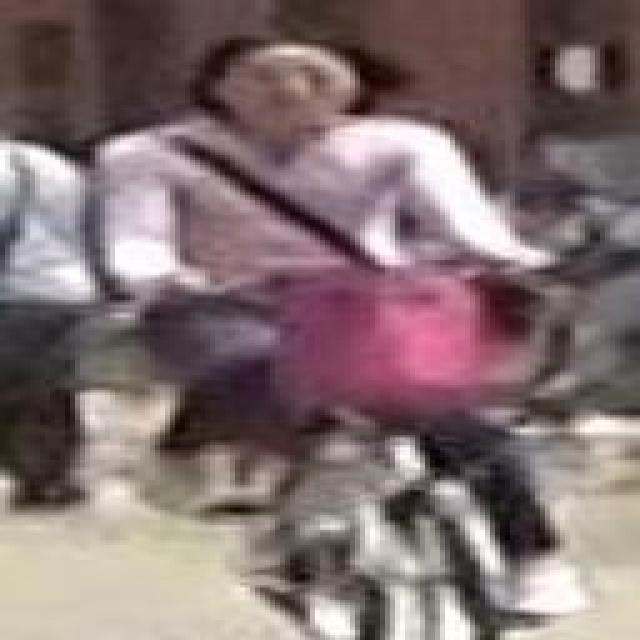adult: (99, 31, 612, 622), (0, 128, 107, 516)
